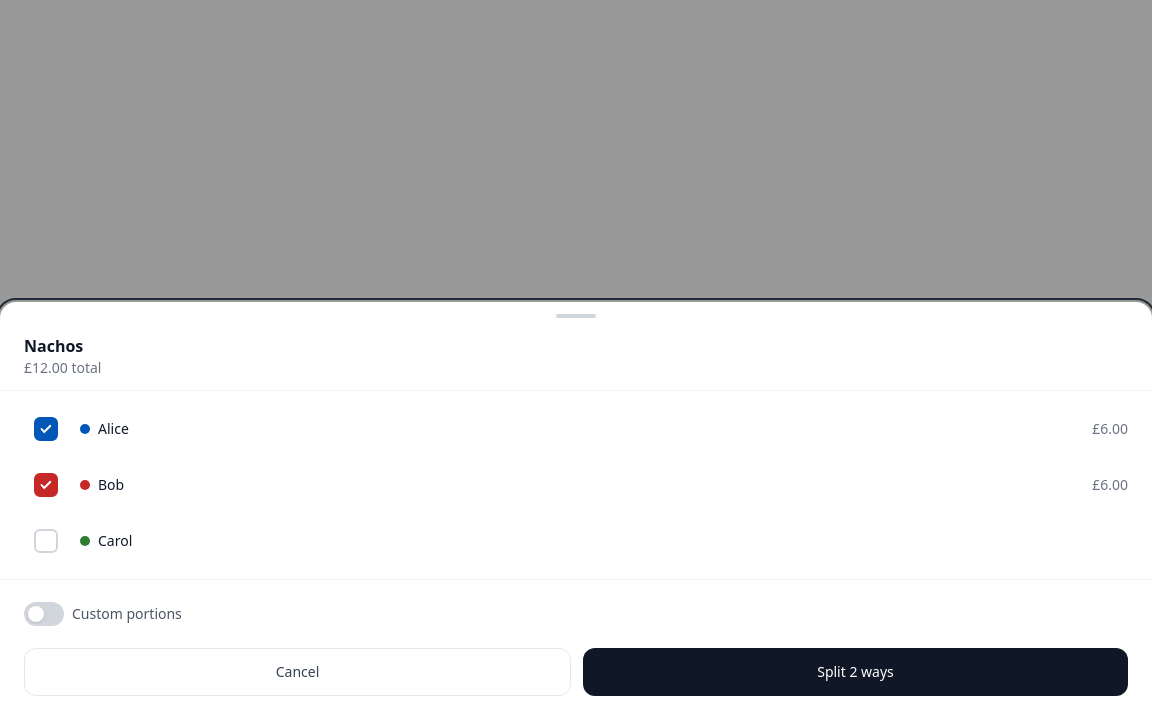
SharedItemSplitter › shows portion inputs when custom toggle is enabled
This screenshot has width=1152, height=720.
Click the button "Custom portions": [103, 614] box [24, 592, 182, 636]
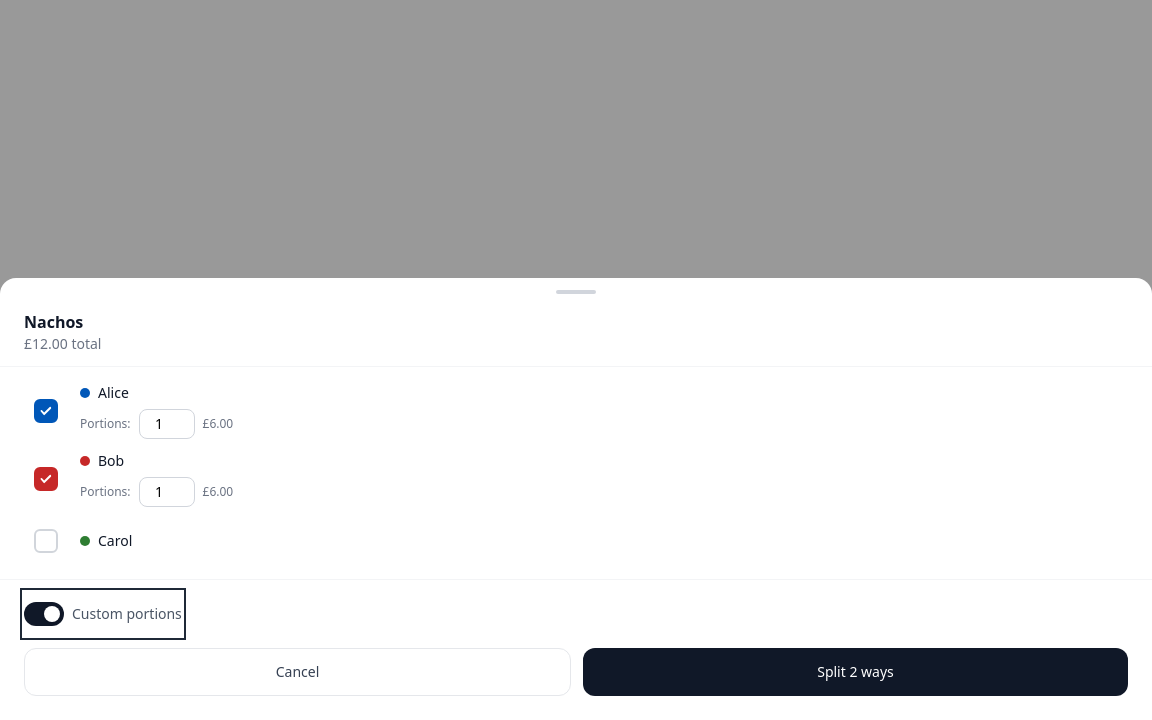
Expected: the number field named "alice portion count" is shown, [138, 409, 194, 439]
Expected: the number field named "bob portion count" is shown, [138, 477, 194, 507]
